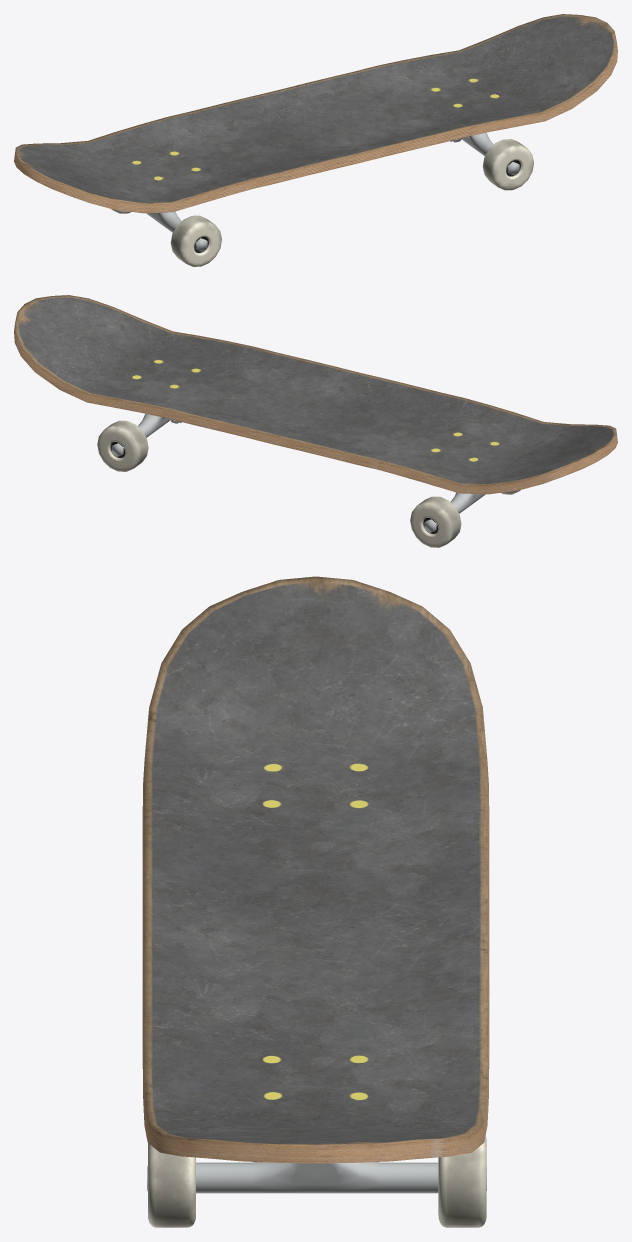
File: skateboard.glb
3 views of the same model, one above another, from view 1: azimuth 30°, elevation 25°; view 2: azimuth 150°, elevation 25°; view 3: azimuth 270°, elevation 25° (orthographic). The views are drawn at different scales.
Visible parts, largest first — view 1: Skateboard; view 2: Skateboard; view 3: Skateboard.
Boxes of the visible parts, left/top/right/bottom form: Skateboard: left=14, top=14, right=617, bottom=266; Skateboard: left=14, top=295, right=617, bottom=547; Skateboard: left=142, top=576, right=489, bottom=1227.
Bounding box in the file's own units: 0.7582 × 0.1299 × 0.1947.
Materials: 1 (1 with a texture image).
